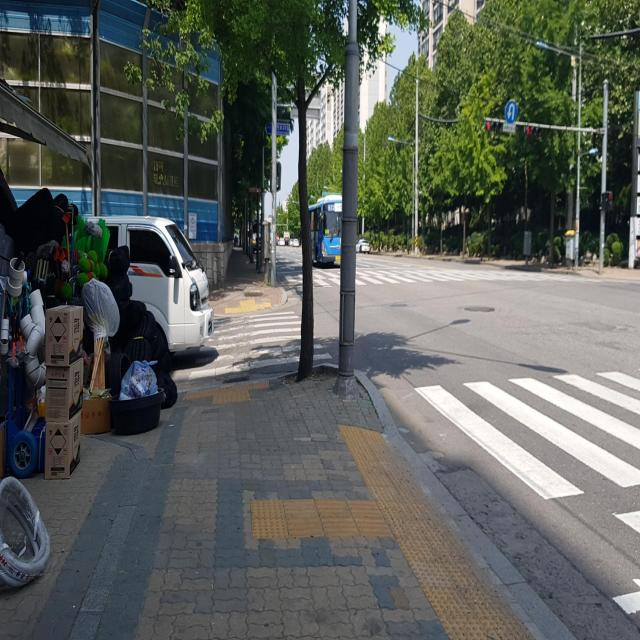빨간불: (605, 187, 613, 210)
횡단보도: (414, 364, 640, 622), (188, 309, 333, 382), (284, 266, 576, 293)
